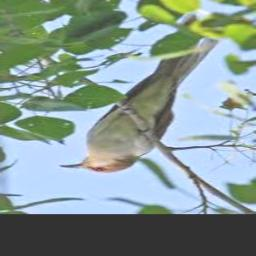Cuckoo: (59, 14, 219, 173)
